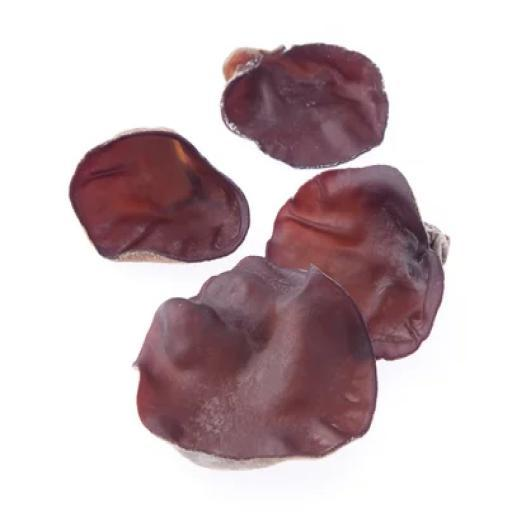mushroom: (115, 249, 390, 484), (252, 159, 455, 360), (196, 30, 405, 174), (64, 116, 257, 267)
